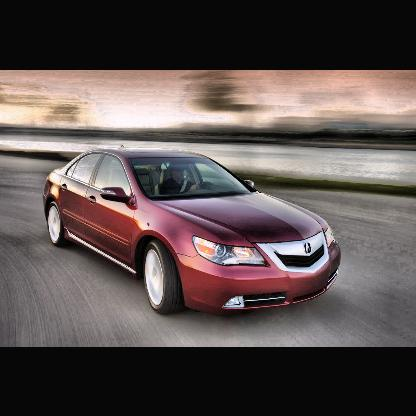Acura RL Sedan 2012: (44, 144, 343, 316)
